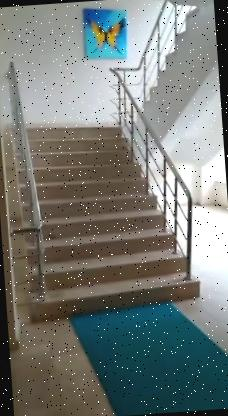stair: (3, 107, 196, 340)
